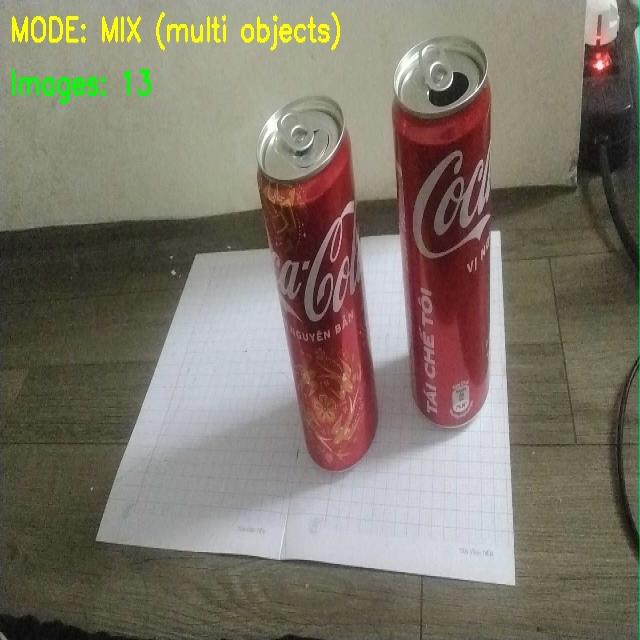Coca: (224, 86, 384, 477)
Coca_open: (390, 39, 532, 442)
